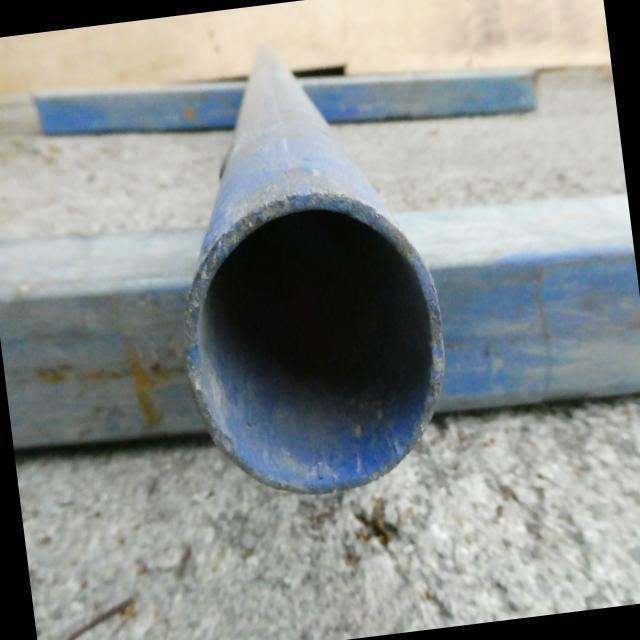pipe: (185, 198, 445, 497)
